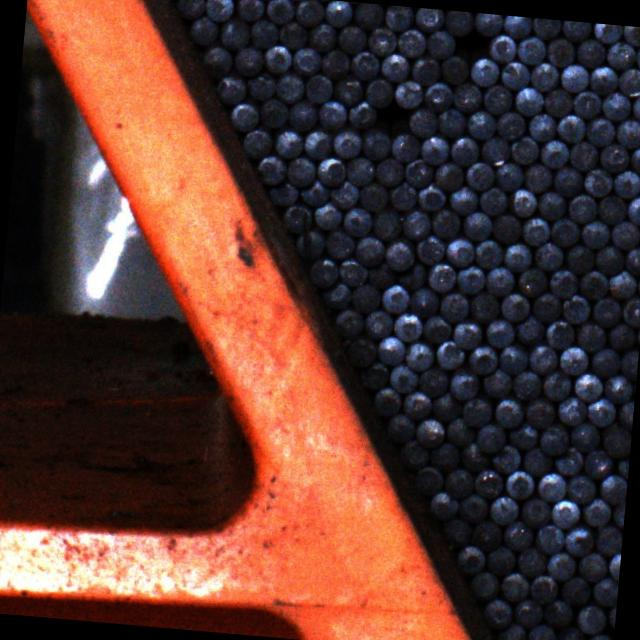tool: (371, 204, 404, 240), (342, 335, 376, 368), (358, 126, 391, 160), (468, 290, 501, 323), (600, 422, 632, 456), (306, 256, 339, 288), (418, 134, 450, 167), (273, 70, 305, 103), (286, 98, 318, 131), (439, 288, 472, 320), (401, 207, 433, 240), (444, 235, 476, 268), (448, 369, 480, 402), (381, 236, 414, 268), (414, 233, 446, 266), (218, 16, 249, 50), (314, 156, 346, 188), (421, 79, 453, 111), (482, 82, 514, 114), (284, 156, 316, 188), (404, 341, 436, 373), (256, 154, 288, 186), (330, 75, 362, 107), (272, 126, 304, 158), (430, 208, 462, 240), (460, 210, 492, 242), (493, 397, 525, 429), (325, 228, 357, 260), (450, 82, 482, 114), (409, 284, 441, 316), (466, 344, 498, 376), (416, 366, 448, 398), (280, 202, 312, 234), (294, 227, 326, 259), (302, 126, 333, 159), (462, 158, 493, 190), (577, 268, 608, 300), (362, 308, 394, 339), (390, 132, 421, 164), (410, 54, 442, 85), (448, 134, 479, 166), (374, 155, 406, 186), (434, 340, 466, 371), (494, 110, 525, 142), (349, 50, 380, 82), (316, 97, 347, 129), (333, 306, 364, 338), (474, 238, 505, 270), (446, 184, 478, 215), (498, 59, 530, 90), (574, 604, 606, 635), (526, 344, 557, 376), (524, 397, 556, 428), (464, 108, 496, 139), (574, 321, 606, 352), (490, 212, 521, 244), (480, 134, 510, 167), (233, 45, 264, 76), (469, 55, 500, 86), (401, 388, 432, 419), (343, 205, 374, 236), (475, 423, 506, 454), (507, 186, 538, 217), (588, 347, 619, 378), (498, 290, 529, 321), (320, 47, 351, 78), (522, 161, 553, 192), (387, 180, 418, 211), (462, 395, 493, 426), (392, 78, 423, 109), (362, 78, 393, 109), (390, 312, 422, 342), (550, 498, 580, 530), (454, 544, 484, 576), (434, 160, 466, 190), (590, 296, 620, 328), (482, 598, 512, 630), (563, 524, 593, 556), (552, 166, 582, 198), (568, 140, 598, 172), (566, 192, 596, 224), (379, 282, 409, 314), (438, 52, 468, 84), (482, 318, 514, 348), (200, 46, 230, 78), (334, 24, 366, 54), (214, 74, 246, 104), (578, 550, 608, 582), (540, 598, 572, 628), (332, 126, 362, 158), (444, 416, 476, 446), (470, 519, 500, 551), (430, 390, 462, 420), (540, 424, 570, 456), (541, 368, 571, 400), (435, 106, 465, 138), (530, 290, 560, 322), (480, 367, 512, 397), (304, 73, 334, 104), (598, 141, 628, 172), (600, 91, 630, 122), (478, 183, 508, 214), (598, 472, 628, 503), (241, 127, 271, 158), (498, 570, 528, 601), (528, 61, 558, 92), (583, 448, 613, 479), (488, 495, 518, 526), (329, 180, 360, 210), (230, 101, 260, 132), (504, 468, 534, 499), (585, 116, 615, 147), (344, 156, 374, 187), (514, 85, 544, 116), (570, 420, 600, 451), (442, 467, 472, 498), (557, 396, 587, 427), (594, 243, 624, 274), (547, 268, 578, 298), (402, 158, 433, 188), (502, 519, 532, 550), (484, 266, 514, 297), (356, 180, 387, 210), (454, 264, 484, 295), (596, 193, 626, 224), (520, 497, 550, 528), (428, 442, 459, 472), (395, 28, 426, 58), (407, 105, 437, 136), (258, 97, 288, 128), (544, 37, 574, 68), (366, 27, 396, 58), (428, 262, 458, 293), (249, 18, 279, 49), (520, 215, 550, 246), (510, 133, 540, 164), (451, 318, 482, 348), (338, 257, 369, 287), (358, 360, 389, 390), (398, 438, 428, 469), (494, 160, 524, 191), (421, 314, 452, 344), (504, 242, 534, 273), (516, 312, 546, 343), (397, 262, 428, 292), (469, 570, 498, 602), (528, 572, 557, 604), (561, 574, 590, 606), (486, 32, 516, 62), (322, 280, 352, 310), (562, 242, 592, 272), (376, 336, 406, 366), (416, 418, 446, 448), (370, 386, 400, 416), (606, 40, 636, 70), (536, 470, 566, 500), (414, 464, 444, 494), (602, 372, 632, 402), (380, 51, 410, 81), (538, 137, 568, 167), (514, 34, 544, 64), (350, 283, 380, 313), (534, 188, 564, 218), (557, 344, 587, 374), (586, 66, 616, 96), (516, 546, 546, 576), (188, 15, 218, 45), (386, 413, 416, 443), (575, 36, 605, 66), (532, 240, 562, 270), (457, 494, 487, 524), (526, 112, 556, 142), (291, 46, 321, 76), (549, 216, 579, 246), (566, 472, 596, 502), (354, 236, 384, 266), (428, 490, 458, 520), (490, 444, 520, 474), (389, 364, 419, 394), (580, 498, 610, 528), (523, 447, 553, 477), (572, 372, 602, 402), (306, 22, 336, 52), (585, 398, 615, 428), (498, 344, 528, 374), (544, 86, 574, 116), (554, 446, 584, 476), (416, 180, 446, 210), (442, 518, 472, 548), (511, 369, 541, 399), (426, 30, 456, 60), (460, 442, 490, 472), (516, 268, 546, 298), (246, 70, 276, 100), (594, 525, 623, 556), (472, 467, 501, 498), (486, 543, 515, 574), (347, 100, 378, 129), (511, 598, 540, 628), (580, 218, 609, 248), (545, 318, 574, 348), (535, 523, 564, 553), (279, 19, 308, 49), (581, 166, 610, 196), (554, 114, 583, 144), (611, 220, 640, 250), (312, 201, 342, 230), (507, 421, 538, 449), (297, 178, 328, 206), (268, 179, 299, 207), (366, 262, 397, 290), (572, 90, 600, 120), (262, 44, 290, 74), (560, 294, 588, 324), (547, 550, 575, 580), (608, 270, 636, 300), (608, 320, 636, 350), (352, 2, 383, 29), (613, 118, 640, 149), (613, 168, 640, 198), (592, 575, 618, 606), (383, 4, 414, 30), (560, 64, 588, 92), (293, 0, 323, 26), (443, 10, 472, 36), (324, 0, 352, 26), (415, 8, 445, 32), (473, 12, 502, 36), (617, 66, 640, 96), (264, 0, 294, 23), (500, 15, 530, 38), (619, 295, 640, 327), (202, 0, 232, 22), (558, 20, 588, 41), (530, 17, 560, 38), (175, 0, 205, 20), (593, 23, 622, 43), (495, 620, 524, 640), (234, 0, 263, 20), (620, 349, 638, 380), (526, 622, 556, 640), (617, 398, 634, 428), (623, 246, 640, 276), (555, 624, 586, 640), (626, 193, 640, 223), (606, 552, 620, 580), (611, 500, 625, 528), (620, 25, 640, 44), (628, 143, 640, 174), (616, 457, 630, 478), (631, 91, 640, 122), (606, 603, 616, 630), (585, 631, 613, 640), (636, 271, 640, 298)
void: (372, 102, 412, 137), (453, 31, 492, 64)
